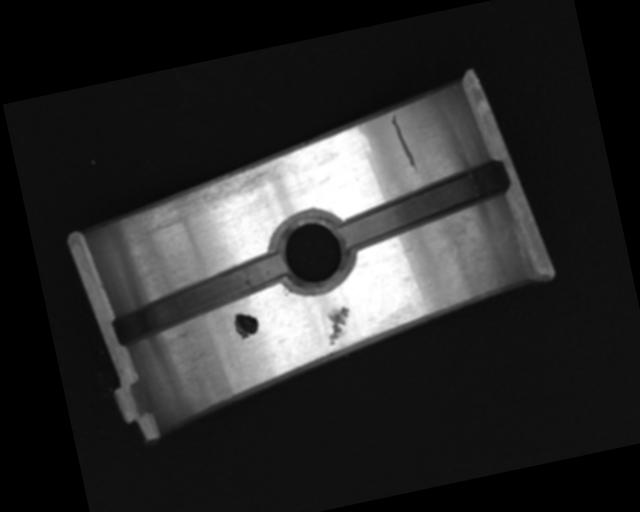blot: (232, 309, 261, 341)
bruise: (321, 305, 355, 347)
gap: (105, 250, 292, 346), (331, 158, 513, 251)
hole: (266, 205, 360, 298)
nick: (389, 109, 419, 178)
scratch: (128, 152, 300, 237)
